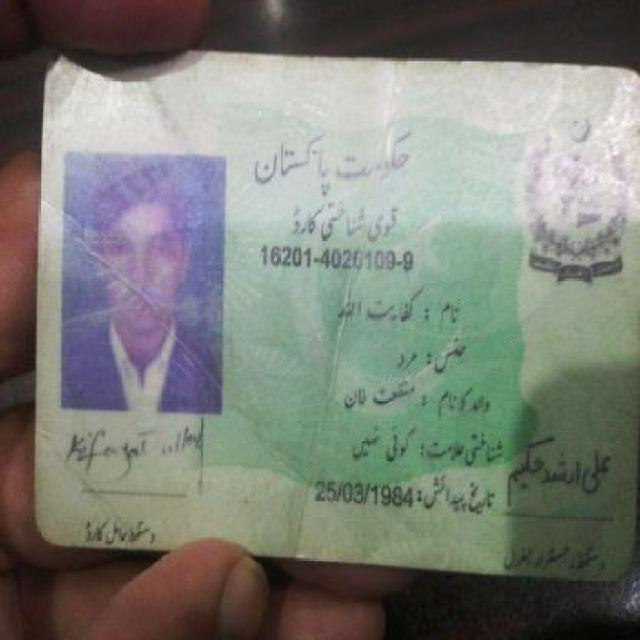Front: (29, 32, 637, 586)
